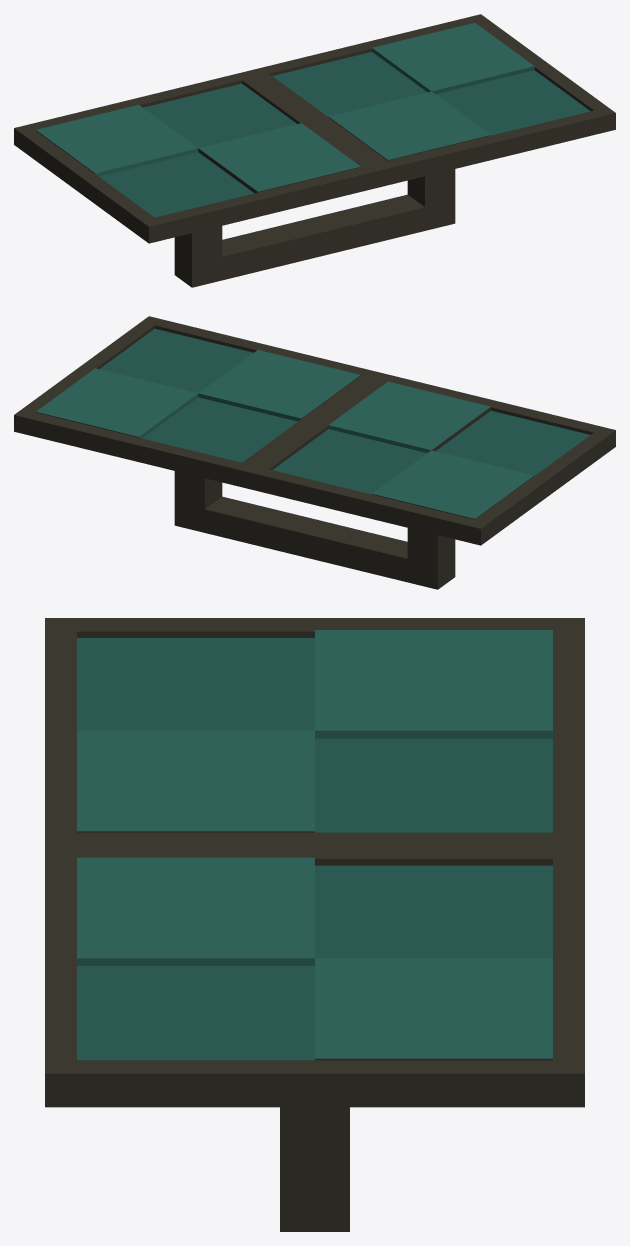
Rendered from portal_solar.glb.
The picture shows the model from 3 angles, top to bottom: view 1: azimuth 30°, elevation 25°; view 2: azimuth 150°, elevation 25°; view 3: azimuth 270°, elevation 25°; orthographic projection. The views are drawn at different scales.
Parts seen in each view (by area): view 1: Cube; view 2: Cube; view 3: Cube.
Part boxes in pixels (<box>): Cube: <box>14,14,615,287</box>; Cube: <box>14,316,615,589</box>; Cube: <box>45,618,584,1231</box>.
Bounding box in the file's own units: 1.23 × 0.3246 × 0.6135.
2 materials, 2 textured.
